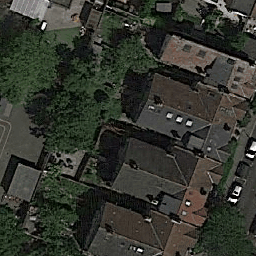car: (226, 183, 244, 205), (243, 140, 256, 160)
